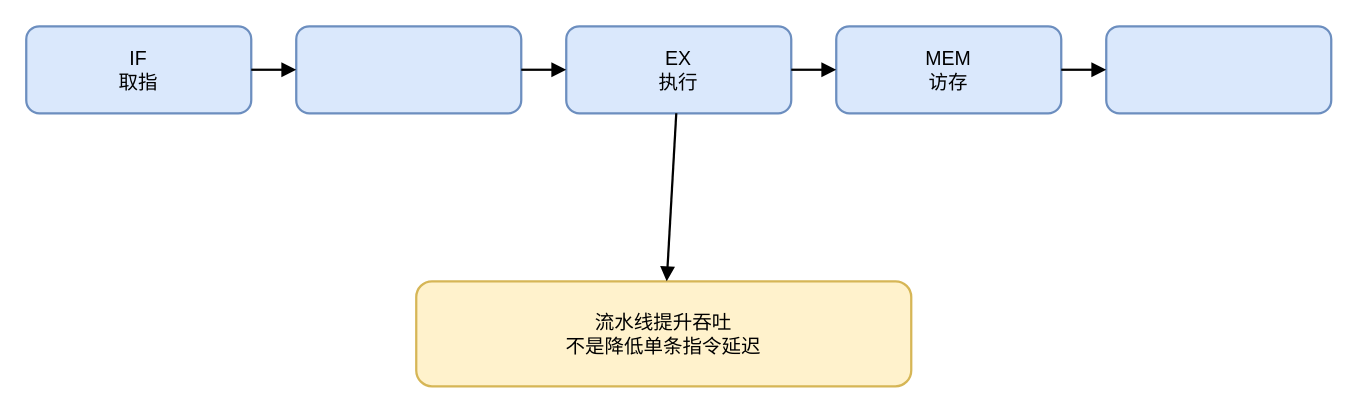
The diagram is 1359 pixels wide and 414 high, and some of its shapes have lost their labels. The shapes that lost their labels are listed below. From the top down, each one's box as (x1, y1, x2, y2) in pixels, then its label:
(294, 24, 522, 114): ID 译码
(1104, 24, 1332, 114): WB 写回
